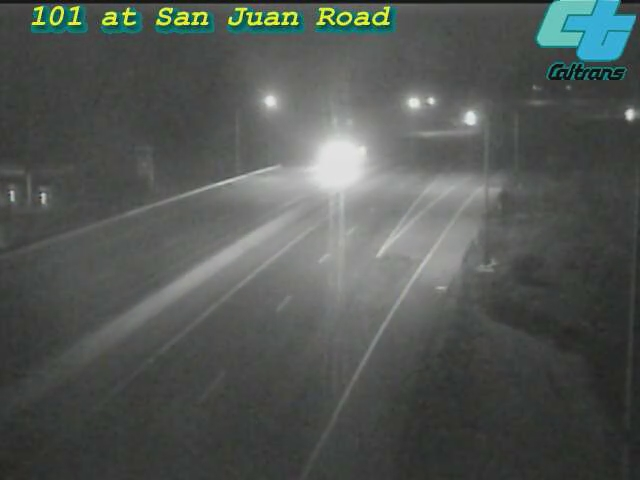vehicle: (297, 122, 377, 202), (443, 94, 493, 144), (607, 86, 640, 136)
